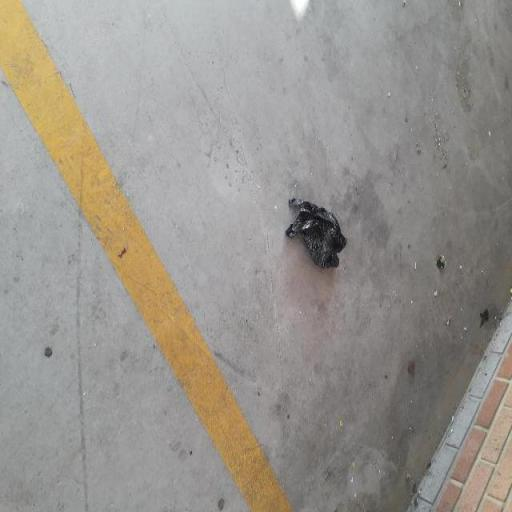plastic-bag: (284, 194, 350, 277)
